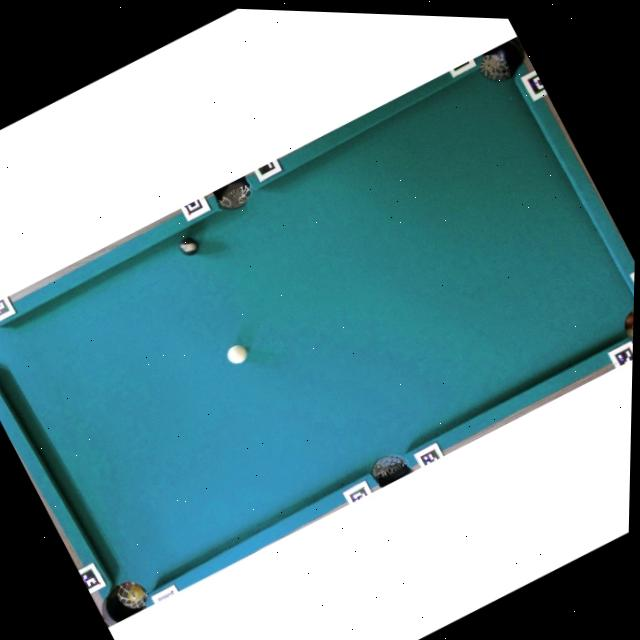cue ball: (224, 340, 252, 367)
other: (176, 233, 203, 261)
